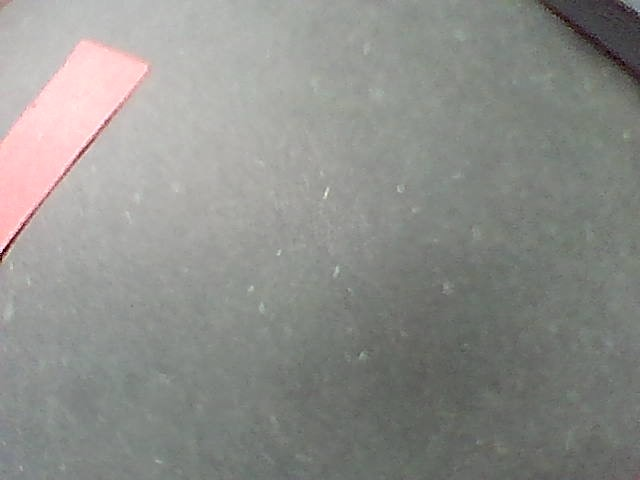card: (0, 40, 147, 253)
